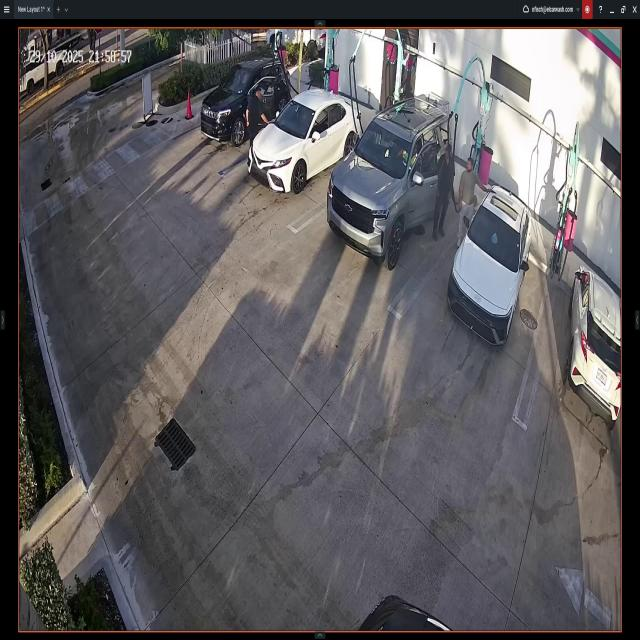Car: (328, 96, 452, 278), (447, 182, 532, 345), (249, 90, 361, 196), (566, 264, 621, 422), (205, 58, 290, 140), (266, 28, 324, 56)
